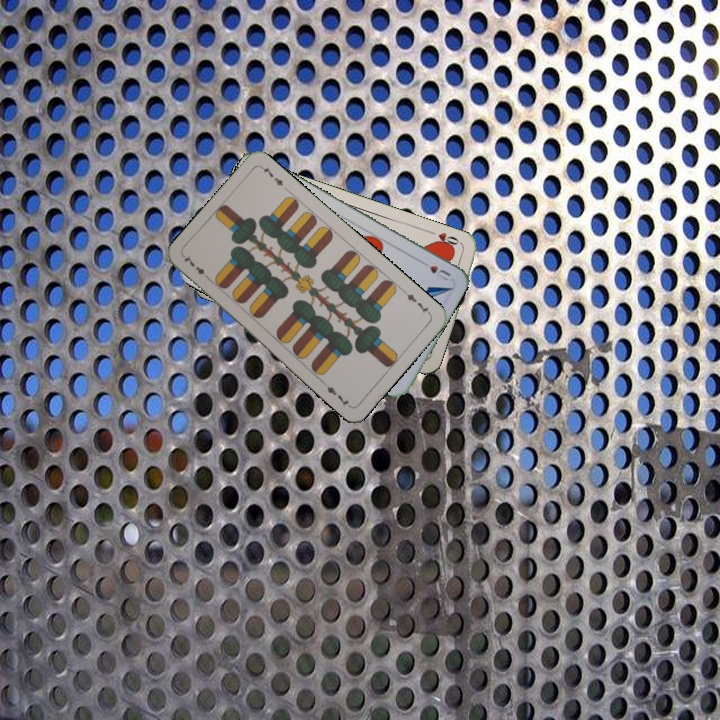E7: (180, 251, 213, 283), (400, 287, 433, 317)
HO: (426, 227, 465, 252)
HU: (416, 256, 453, 284)
